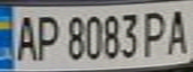0: (81, 11, 106, 61)
3: (118, 9, 142, 60)
8: (63, 11, 84, 62), (103, 11, 124, 61)
A: (9, 10, 39, 62), (163, 4, 193, 56)
P: (139, 7, 172, 57), (30, 11, 60, 62)
